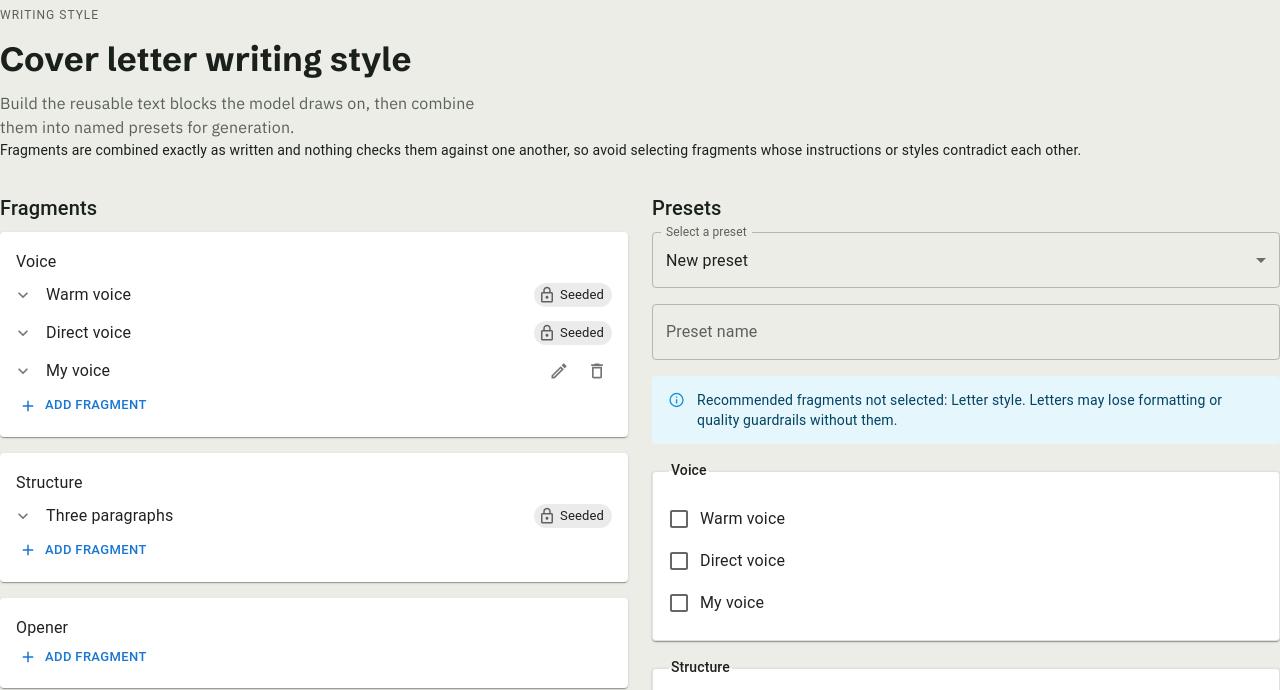
Test: WritingStylePage › shows the server error when deleting a fragment fails
Expected: the 1st text "My voice" is shown, [46,361,110,380]
Click the button named "Delete My voice". click: (597,371)
box: [582,356,612,386]
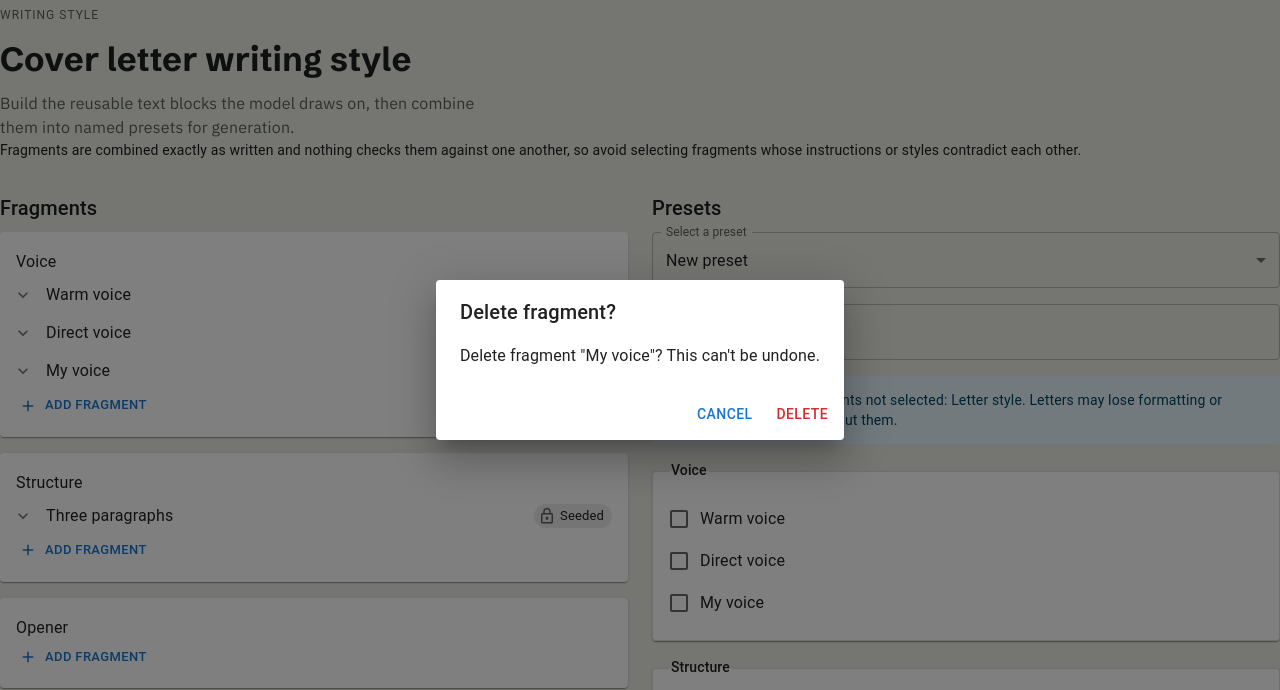
Click the button "Delete". click: (802,414)
box: [768,396,836,432]
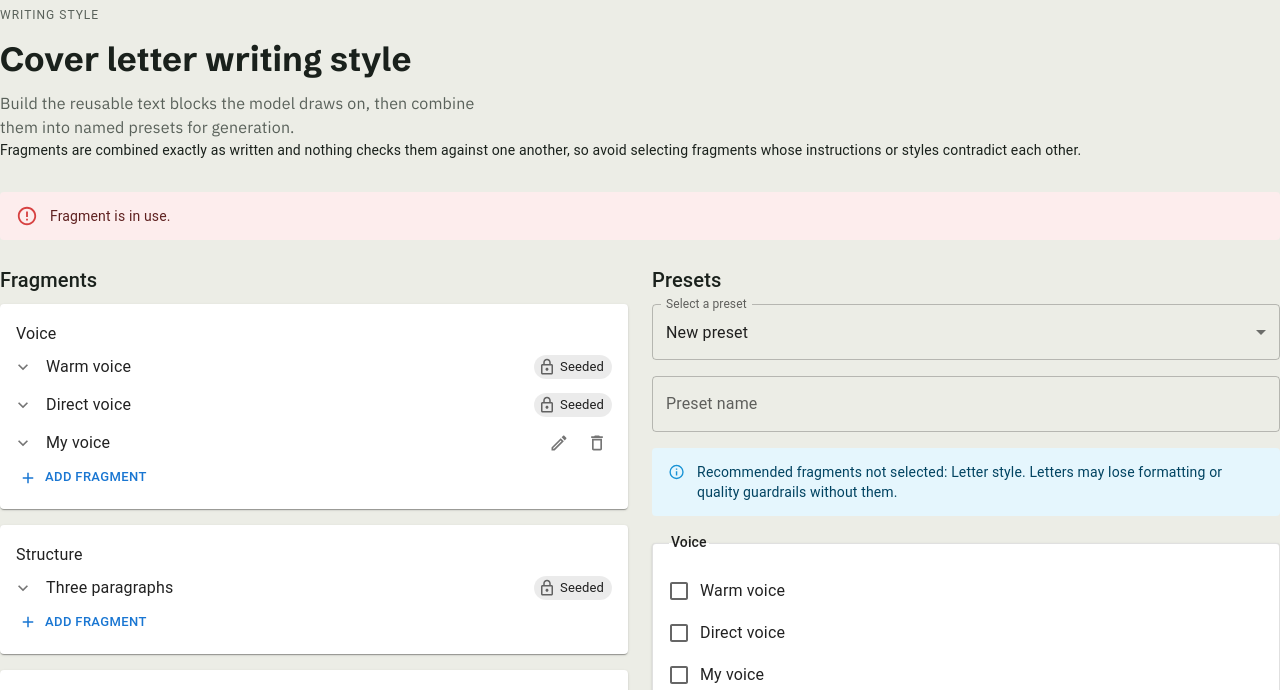
Expected: the text "Fragment is in use." is shown, [50,208,171,224]
